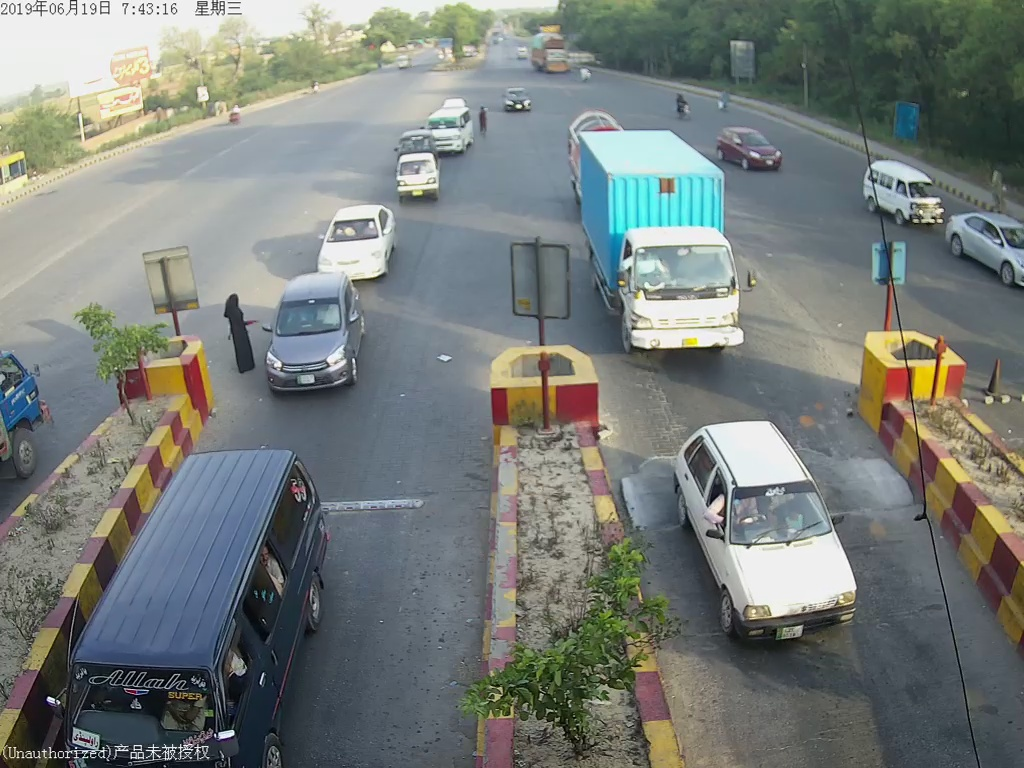Cat-1: (672, 420, 872, 646), (260, 280, 361, 393), (317, 203, 392, 281), (390, 137, 448, 200), (500, 86, 538, 117)
Cat-2: (582, 139, 782, 347)
